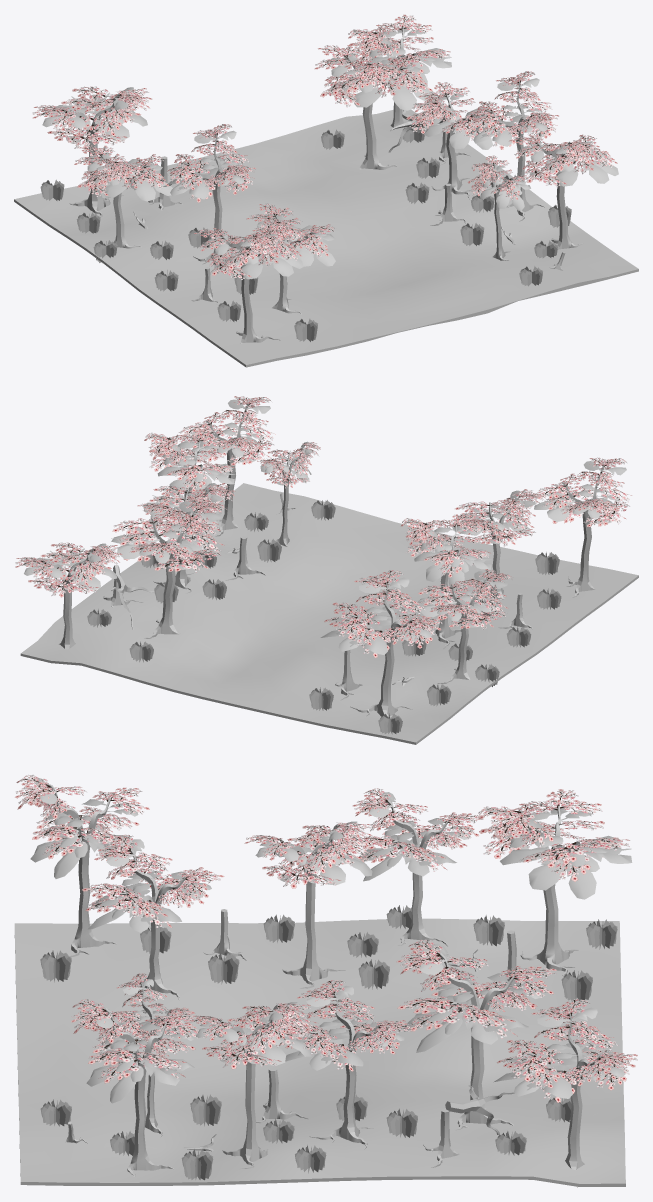
File: map.fbx
3 views of the same model, one above another, from view 1: azimuth 30°, elevation 25°; view 2: azimuth 150°, elevation 25°; view 3: azimuth 270°, elevation 25° (orthographic). The views are drawn at different scales.
Parts seen in each view (by area): view 1: pasted__polySurface606; view 2: pasted__polySurface606; view 3: pasted__polySurface606.
Boxes of the visible parts, box(x1,y1,x2,y2) form: pasted__polySurface606: box(14, 14, 638, 367); pasted__polySurface606: box(15, 396, 638, 744); pasted__polySurface606: box(14, 775, 637, 1187).
Bounding box in the file's own units: 25.99 × 8.23 × 24.87.
